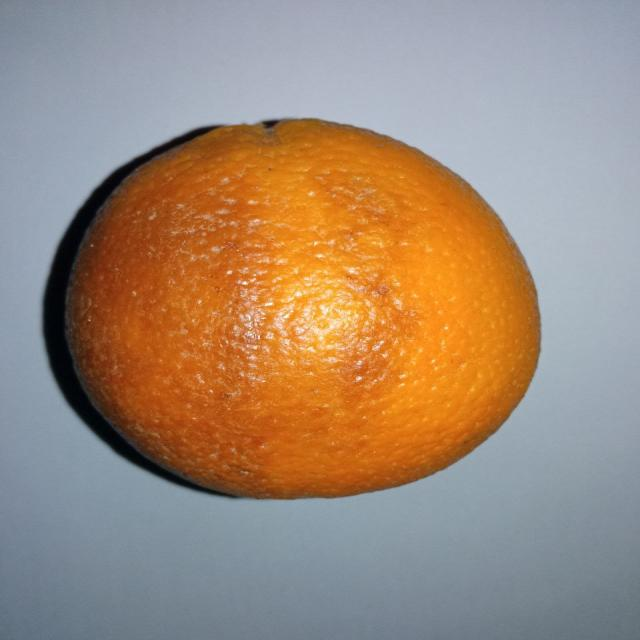rotten_orange: (63, 119, 542, 499)
